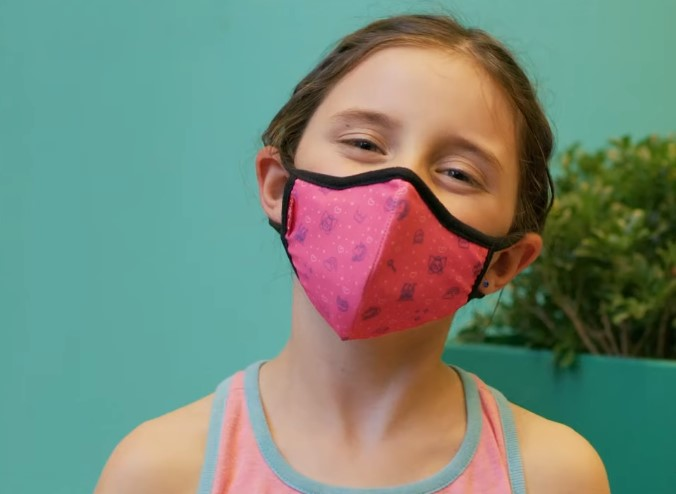face_with_mask: (256, 20, 543, 342)
